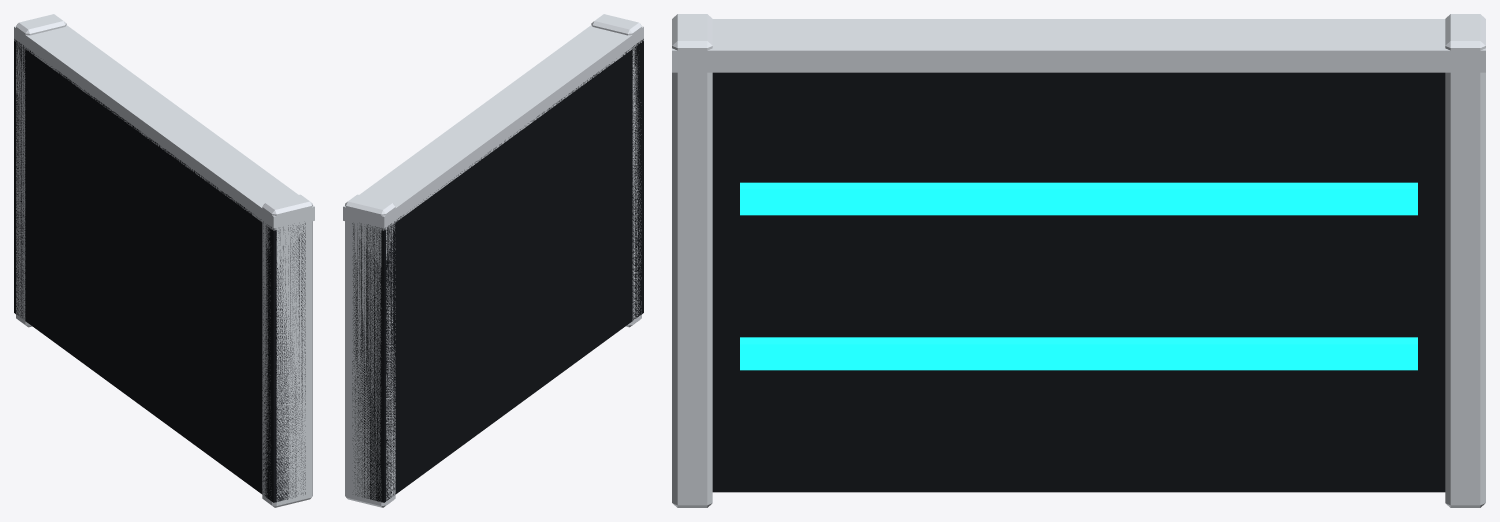
Rendered from skirt_neon_twin.glb.
3 views of the same model, side by side, from view 1: azimuth 30°, elevation 25°; view 2: azimuth 150°, elevation 25°; view 3: azimuth 270°, elevation 25° (orthographic). The views are drawn at different scales.
Visible parts, largest first — view 1: skirt_neon_twin_MID_deco_body, skirt_neon_twin_HEAD_chrome, skirt_neon_twin_MID_chrome, skirt_neon_twin_HEAD_deco_body, skirt_neon_twin_TAIL_deco_body, skirt_neon_twin_TAIL_chrome; view 2: skirt_neon_twin_MID_deco_body, skirt_neon_twin_TAIL_chrome, skirt_neon_twin_TAIL_deco_body, skirt_neon_twin_MID_chrome, skirt_neon_twin_HEAD_deco_body, skirt_neon_twin_HEAD_chrome; view 3: skirt_neon_twin_MID_deco_body, skirt_neon_twin_MID_deco_neon, skirt_neon_twin_MID_chrome, skirt_neon_twin_HEAD_chrome, skirt_neon_twin_TAIL_chrome, skirt_neon_twin_HEAD_deco_body, skirt_neon_twin_TAIL_deco_body.
Part boxes in pixels (x1,y1,x2,y2): skirt_neon_twin_MID_deco_body: (35, 55, 251, 486); skirt_neon_twin_HEAD_chrome: (252, 191, 314, 507); skirt_neon_twin_MID_chrome: (35, 32, 292, 213); skirt_neon_twin_HEAD_deco_body: (252, 215, 305, 502); skirt_neon_twin_TAIL_deco_body: (14, 39, 35, 328); skirt_neon_twin_TAIL_chrome: (14, 14, 76, 327); skirt_neon_twin_MID_deco_body: (406, 57, 622, 486); skirt_neon_twin_TAIL_chrome: (343, 191, 405, 507); skirt_neon_twin_TAIL_deco_body: (352, 215, 405, 502); skirt_neon_twin_MID_chrome: (365, 32, 622, 214); skirt_neon_twin_HEAD_deco_body: (622, 39, 643, 328); skirt_neon_twin_HEAD_chrome: (581, 14, 643, 327); skirt_neon_twin_MID_deco_body: (740, 72, 1417, 492); skirt_neon_twin_MID_deco_neon: (740, 182, 1417, 370); skirt_neon_twin_MID_chrome: (740, 19, 1417, 72); skirt_neon_twin_HEAD_chrome: (672, 14, 739, 507); skirt_neon_twin_TAIL_chrome: (1418, 14, 1485, 507); skirt_neon_twin_HEAD_deco_body: (712, 72, 739, 492); skirt_neon_twin_TAIL_deco_body: (1418, 72, 1445, 492).
Bounding box in the file's own units: 0.055 × 0.38 × 0.6.
